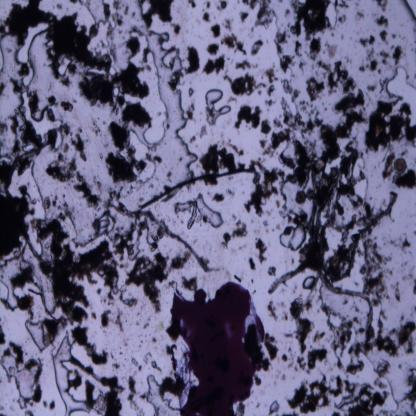Air bubble: (141, 29, 198, 178), (129, 26, 170, 150), (19, 90, 67, 147), (51, 336, 87, 412), (38, 0, 97, 35), (172, 193, 224, 229), (0, 356, 38, 404), (0, 251, 26, 314), (384, 66, 416, 116), (128, 129, 156, 186), (15, 19, 50, 64), (200, 88, 233, 128), (148, 373, 178, 414), (351, 154, 370, 200), (23, 316, 46, 353), (86, 18, 109, 55), (279, 224, 308, 246), (325, 0, 338, 32), (322, 157, 344, 175), (401, 0, 416, 23), (11, 76, 27, 92), (301, 276, 317, 290), (101, 4, 113, 22), (340, 172, 348, 185)
Background material: (34, 221, 116, 324), (2, 1, 112, 71), (288, 378, 391, 414), (316, 91, 366, 157), (365, 99, 416, 153), (281, 142, 332, 192), (127, 257, 170, 310), (0, 188, 33, 255), (4, 117, 58, 153), (246, 160, 283, 212), (287, 0, 332, 39), (77, 72, 118, 113), (70, 326, 110, 365), (104, 150, 147, 186), (357, 274, 394, 312), (199, 147, 237, 182), (319, 58, 357, 92), (114, 62, 149, 98), (282, 76, 316, 113), (332, 156, 365, 191), (60, 124, 90, 161), (237, 0, 275, 29), (96, 378, 124, 416), (292, 297, 314, 345), (75, 172, 102, 210), (137, 0, 177, 25), (0, 155, 33, 184), (47, 151, 77, 182), (44, 191, 74, 222), (264, 128, 294, 156), (120, 102, 150, 130), (218, 221, 250, 247), (374, 320, 397, 356), (258, 329, 281, 360), (397, 318, 416, 355), (234, 105, 262, 130), (293, 39, 310, 79), (378, 149, 396, 186), (390, 171, 416, 196), (108, 123, 132, 150), (283, 113, 313, 134), (200, 54, 228, 76), (359, 50, 384, 74), (126, 373, 141, 412), (142, 349, 167, 372), (221, 34, 248, 55), (306, 73, 326, 101), (372, 354, 393, 380), (81, 376, 97, 410), (402, 367, 416, 405), (184, 43, 202, 72), (169, 248, 192, 270), (66, 368, 86, 393), (292, 350, 310, 376), (15, 295, 37, 316), (12, 267, 34, 288), (108, 6, 126, 30), (8, 346, 24, 372), (263, 297, 280, 321), (280, 342, 294, 370), (276, 54, 294, 75), (104, 1, 119, 26), (128, 33, 144, 56), (256, 240, 270, 266), (308, 350, 328, 368), (398, 231, 411, 258), (345, 358, 366, 374), (265, 66, 275, 98), (0, 122, 11, 151), (238, 58, 260, 72), (113, 309, 125, 334), (325, 38, 338, 61), (100, 306, 113, 329), (357, 33, 376, 48), (328, 354, 342, 374), (379, 45, 391, 68), (60, 97, 76, 114), (273, 28, 286, 48), (375, 14, 391, 30), (41, 393, 56, 410), (90, 116, 102, 137), (392, 282, 404, 302), (186, 100, 198, 120), (249, 39, 263, 56), (404, 273, 416, 292), (230, 140, 245, 155), (210, 23, 223, 40), (393, 44, 403, 66), (212, 189, 226, 204), (29, 190, 38, 213), (314, 328, 326, 345), (260, 120, 274, 134), (281, 101, 294, 116), (0, 325, 8, 349), (208, 44, 222, 57), (310, 38, 321, 54), (199, 122, 210, 138), (176, 75, 186, 92), (59, 74, 71, 88), (269, 400, 280, 415), (45, 95, 58, 107), (1, 347, 12, 361), (110, 358, 121, 372), (188, 83, 197, 100), (355, 10, 367, 22), (232, 272, 243, 285), (164, 168, 174, 182), (374, 0, 388, 10), (132, 356, 142, 370), (18, 65, 30, 76), (266, 266, 276, 279), (172, 21, 182, 34), (247, 256, 255, 272), (380, 74, 387, 92), (378, 30, 388, 42), (367, 82, 377, 94), (337, 0, 349, 10), (33, 388, 43, 400), (155, 153, 163, 167), (257, 136, 267, 146), (226, 187, 235, 197), (219, 1, 228, 10), (189, 135, 198, 144), (250, 286, 258, 296), (338, 15, 346, 25), (264, 217, 270, 230), (190, 0, 197, 10), (56, 0, 62, 11), (204, 13, 211, 22), (0, 84, 7, 93), (400, 314, 406, 322)
Cellulose filter fibre: (267, 260, 373, 347), (100, 200, 215, 274), (322, 189, 399, 279)
Diatom: (222, 74, 265, 94), (392, 157, 408, 177), (295, 189, 306, 204), (365, 326, 375, 338)
Hair: (138, 166, 258, 210)
Pen: (170, 278, 264, 416)
